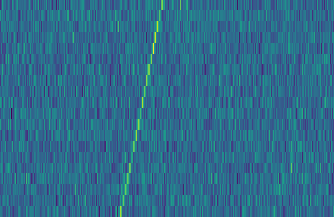signal: (114, 0, 167, 217)
